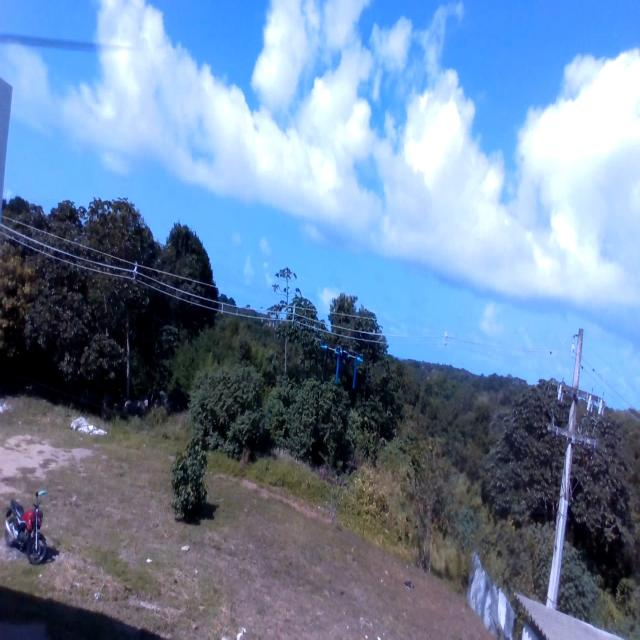-uav-: (315, 326, 372, 404)
